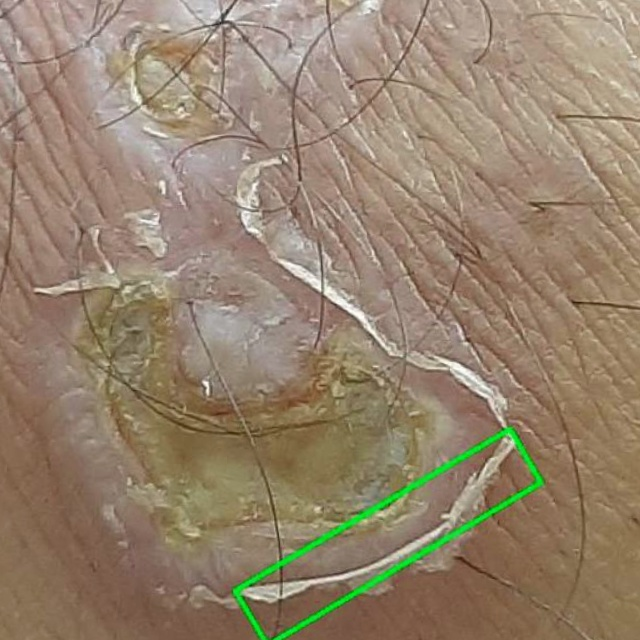Contact Dermatitis: (236, 429, 542, 639)
